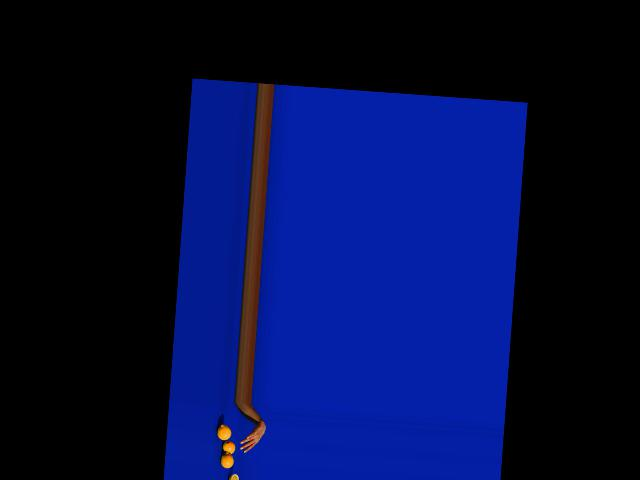lemon: (221, 452, 234, 470)
